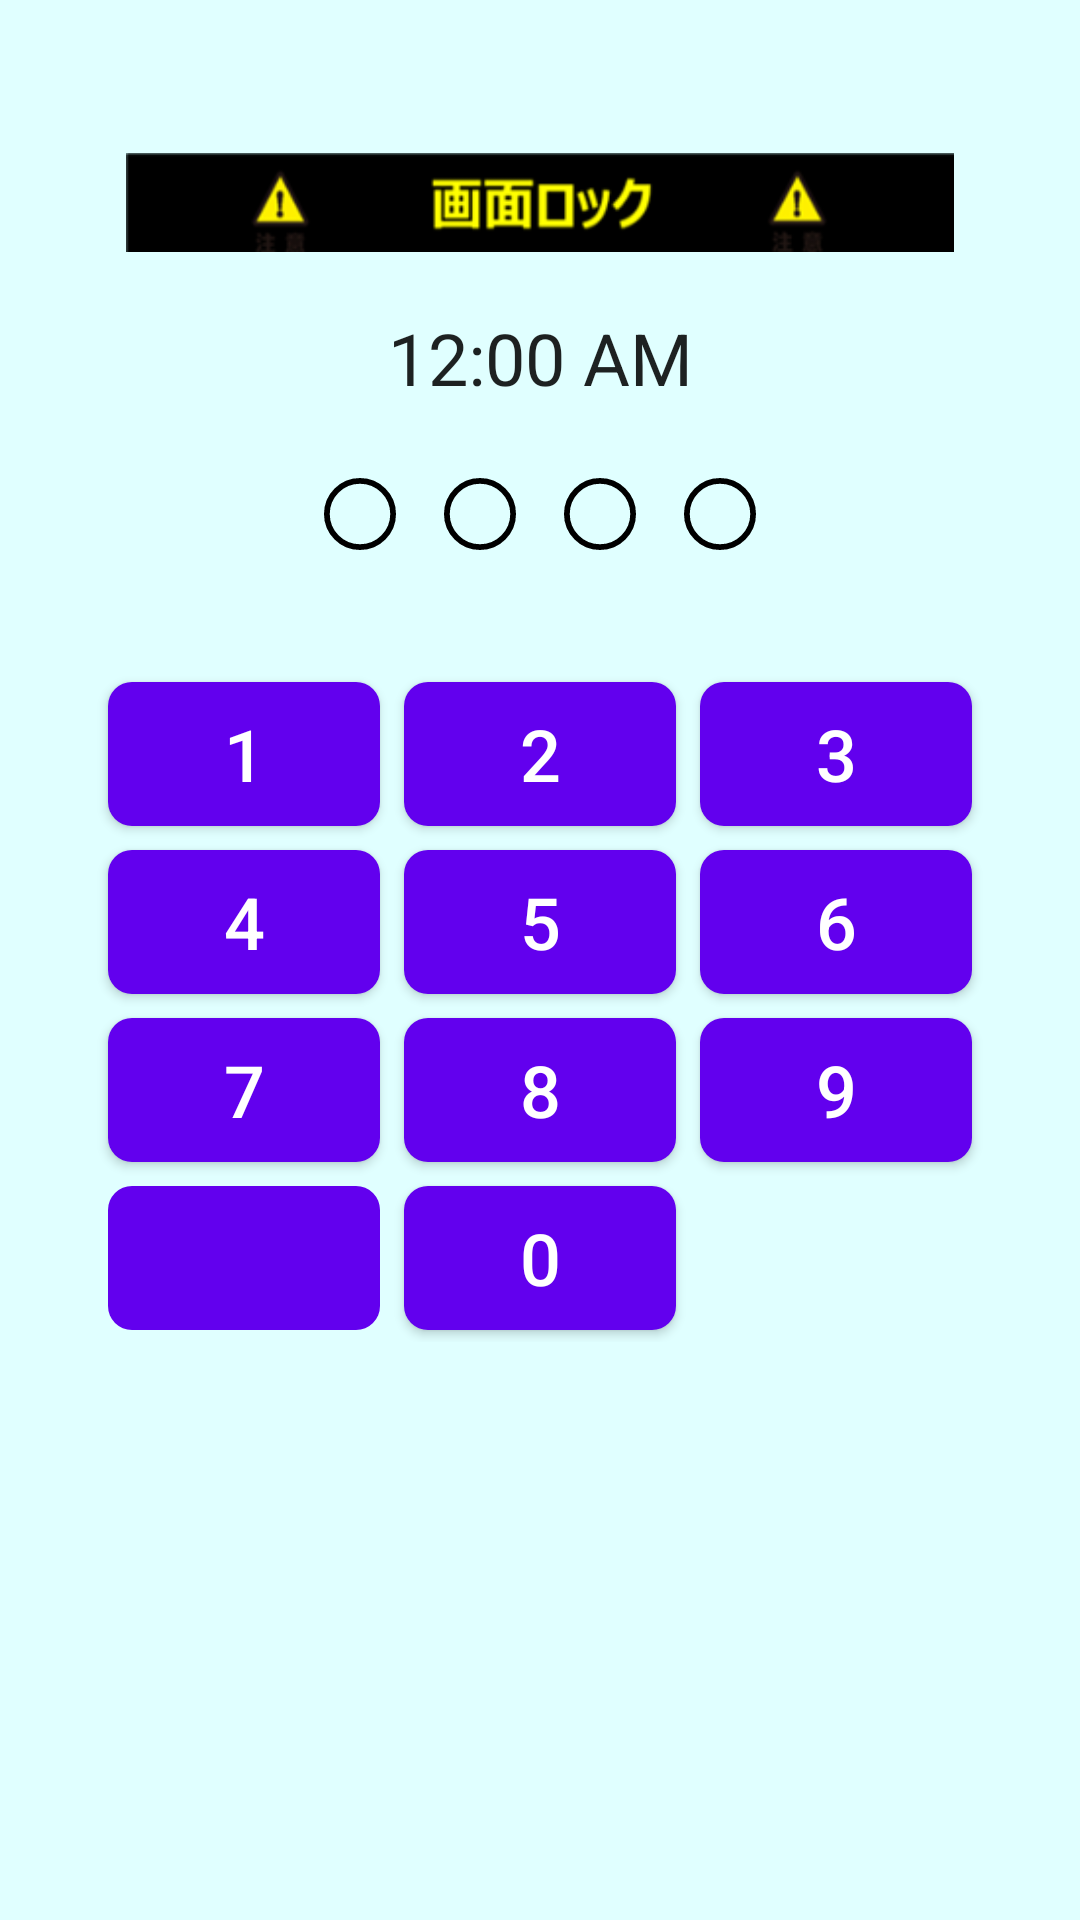

Screen size 1080×1920. Icon name, then its center in pixels as point (x, y):
circle: point (360, 514), point (480, 514), point (600, 514), point (720, 514)
